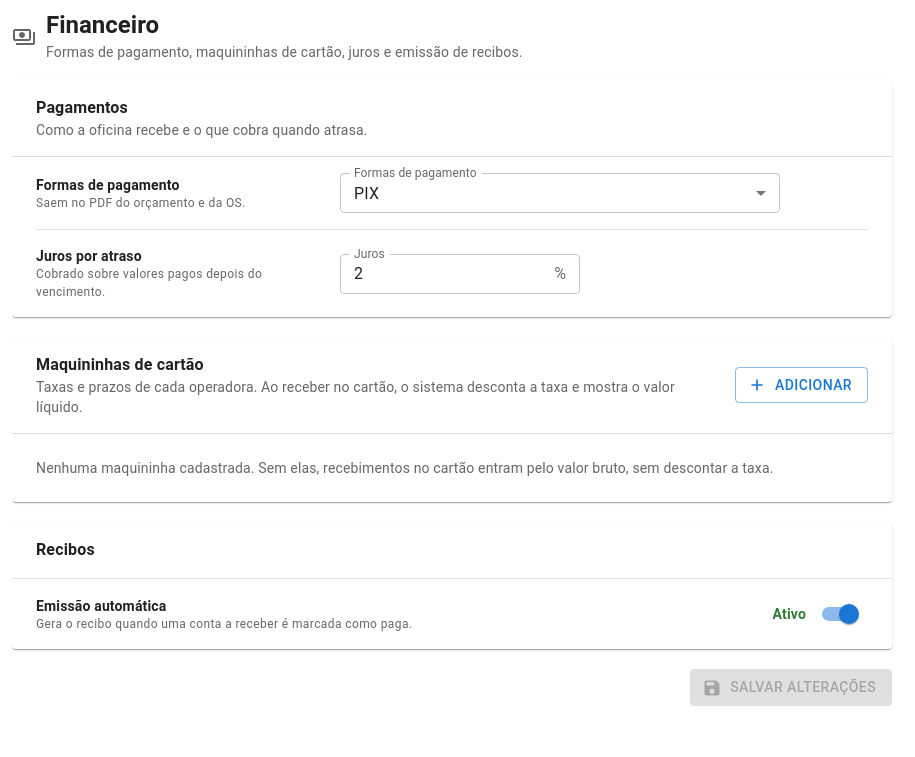
it: Configurações > Financeiro › não salva sem nenhuma forma de pagamento
Click the dropdown named "Formas de pagamento": [367, 193] box [354,184,379,203]
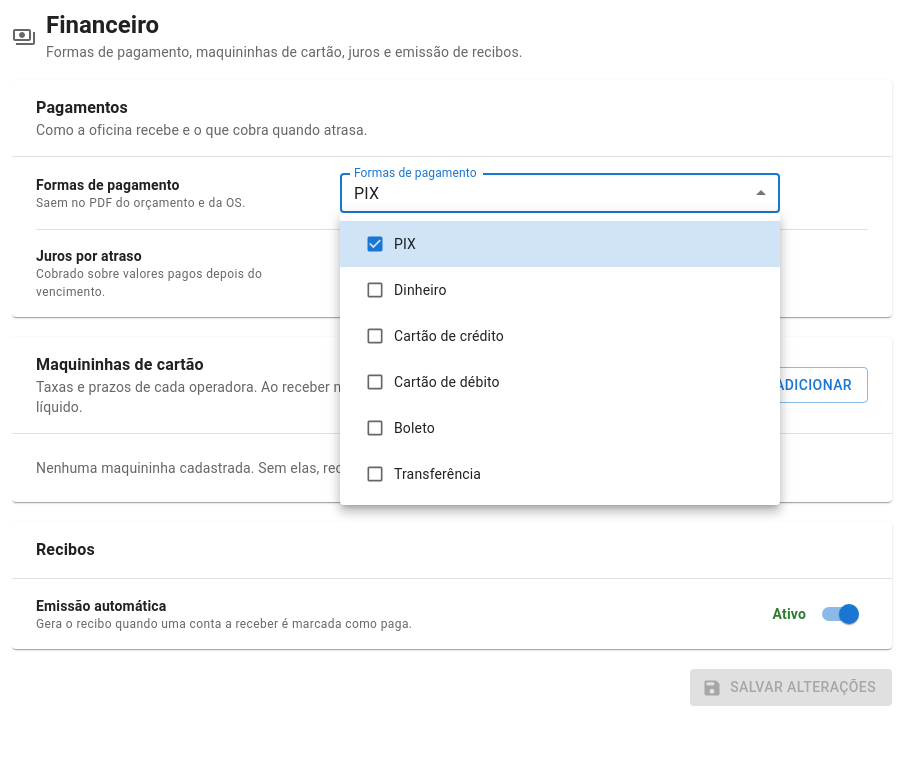
Click the option "PIX": [405, 244] box [340,221,780,267]
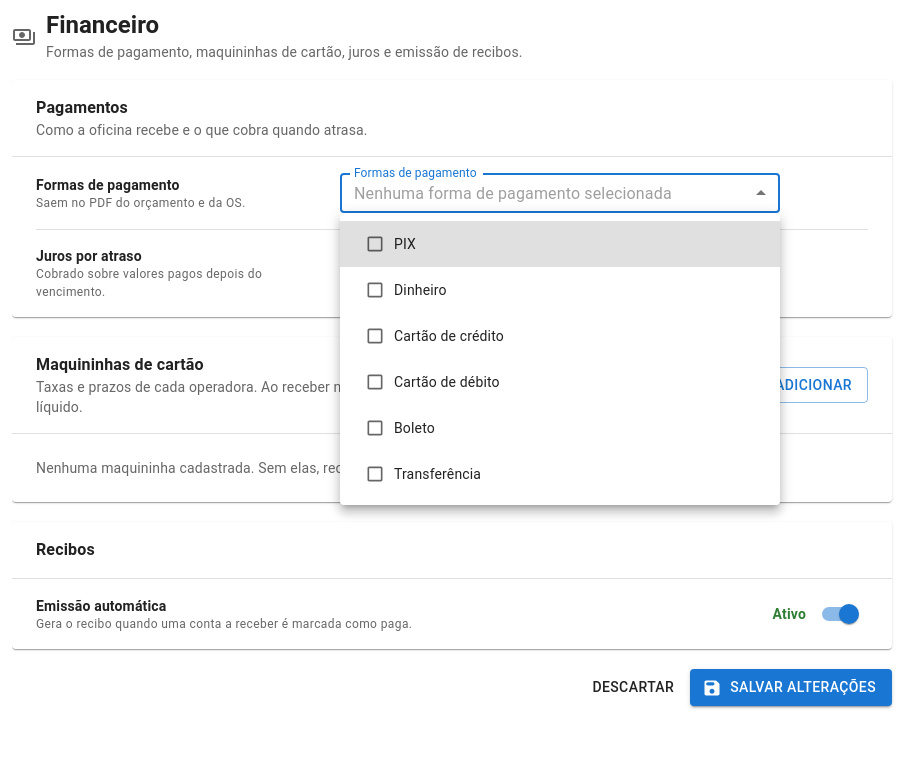
Press Escape
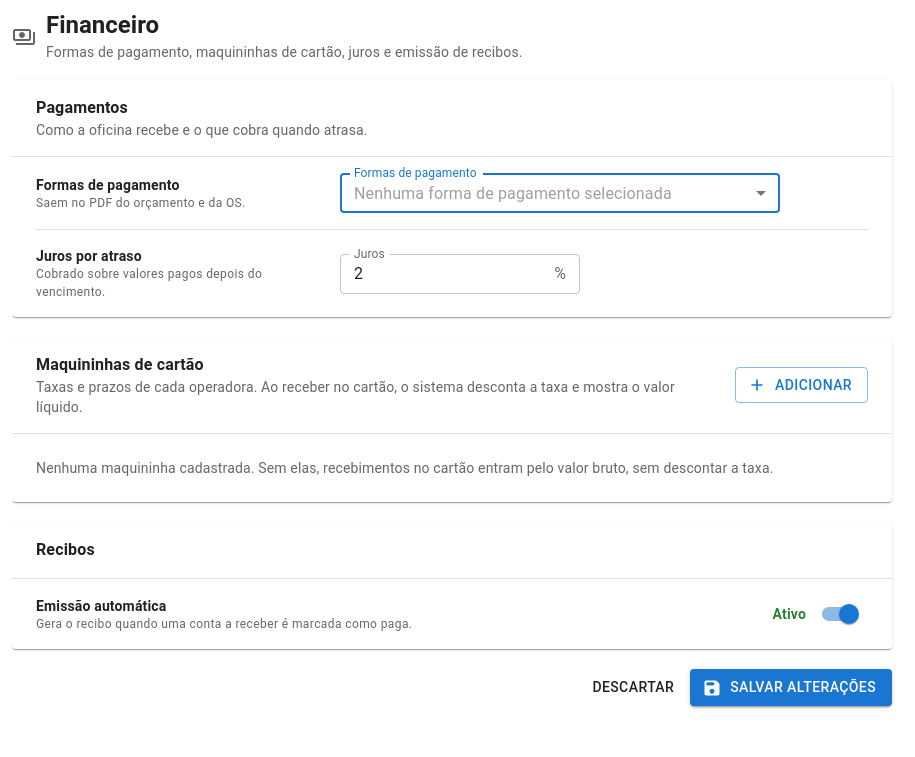
Click the button with test id "save-financeiro": [791, 688] box [690,669,892,706]
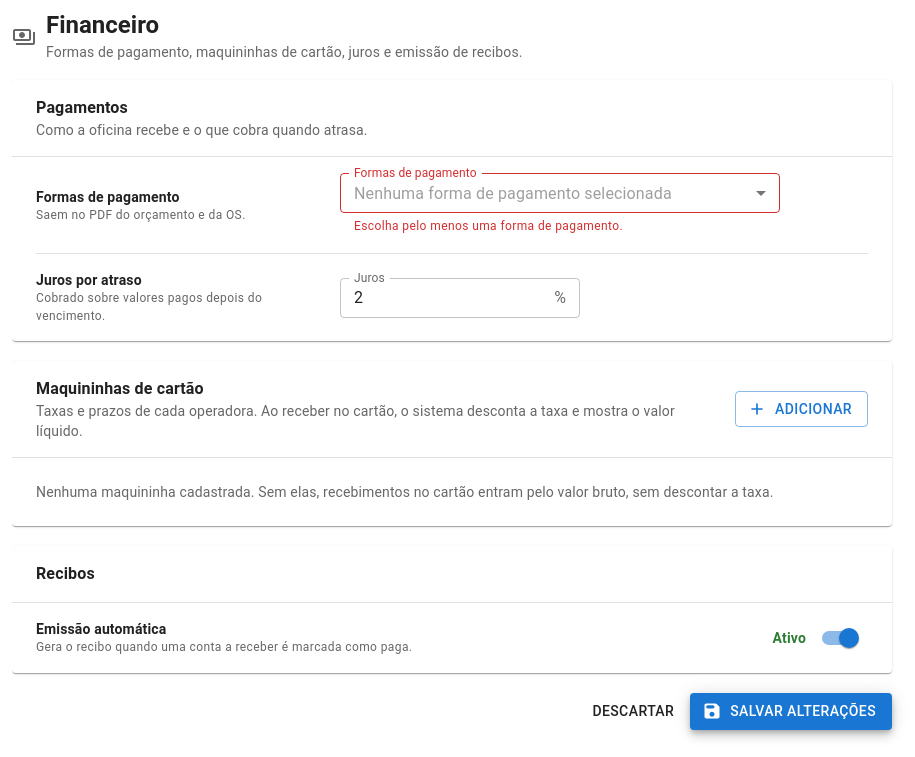
expect the text "Nenhuma forma de pagamento selecionada" is shown: met, box [354,184,672,203]
expect the text "Escolha pelo menos uma forma de pagamento." is shown: met, box [354,219,623,233]
